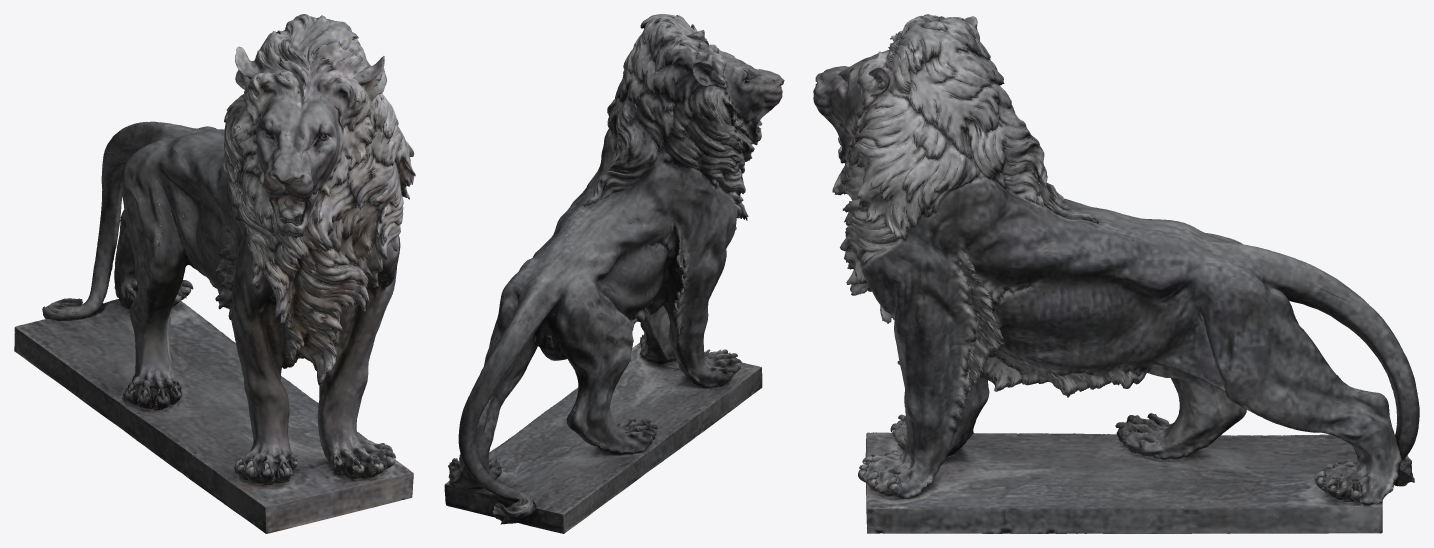
Rendered from statue.glb.
The picture shows the model from 3 angles, left to right: view 1: azimuth 30°, elevation 25°; view 2: azimuth 150°, elevation 25°; view 3: azimuth 270°, elevation 25°; orthographic projection. The views are drawn at different scales.
Parts seen in each view (by area): view 1: Object_4.007; view 2: Object_4.007; view 3: Object_4.007.
Part boxes in pixels (box(x1,y1,x2,y2)): Object_4.007: box(14, 14, 415, 533); Object_4.007: box(444, 14, 784, 533); Object_4.007: box(813, 14, 1419, 533).
Bounding box in the file's own units: 0.6525 × 1.71 × 1.94.
Materials: 2 (1 with a texture image).
